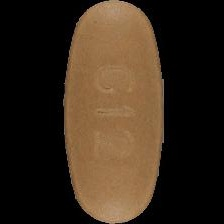65162-668: (0, 0, 224, 224)
